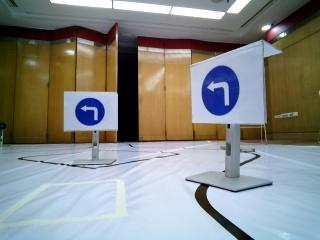left: (187, 61, 267, 118), (61, 87, 116, 129)
